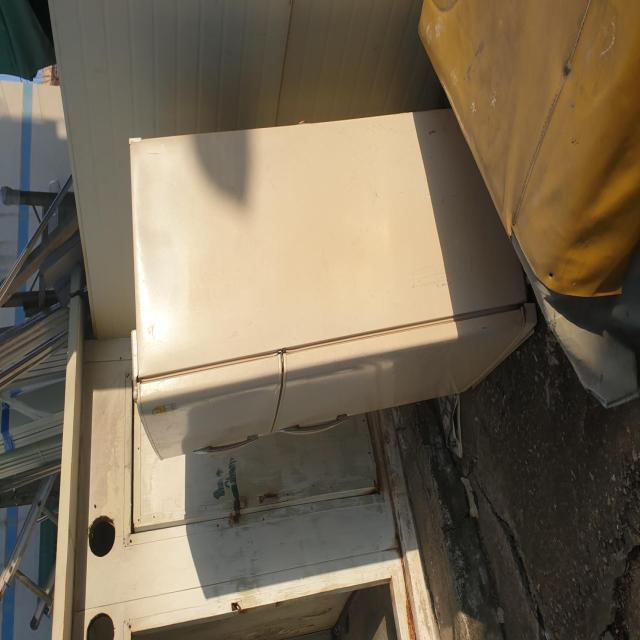refrigerator: (128, 107, 538, 461)
